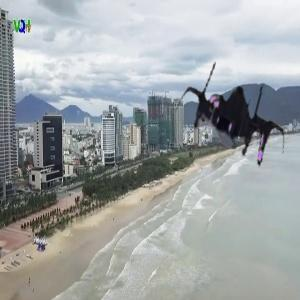drone: (172, 59, 296, 183)
